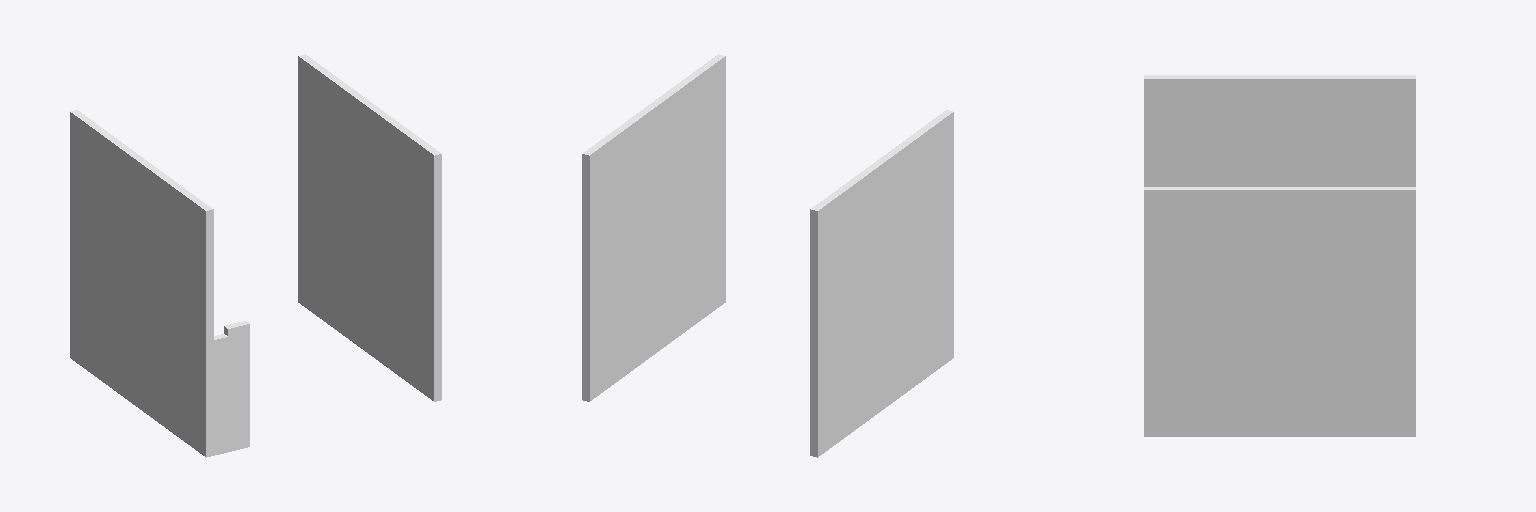
3 views of the same model, side by side, from view 1: azimuth 30°, elevation 25°; view 2: azimuth 150°, elevation 25°; view 3: azimuth 270°, elevation 25° (orthographic).
Visible parts, largest first — view 1: test-43; view 2: test-43; view 3: test-43.
Boxes of the visible parts, x1=… form: test-43: x1=70, y1=54, x2=441, y2=457; test-43: x1=582, y1=54, x2=953, y2=457; test-43: x1=1144, y1=75, x2=1415, y2=436.
Size of the model in its own units: 32 by 32 by 32.